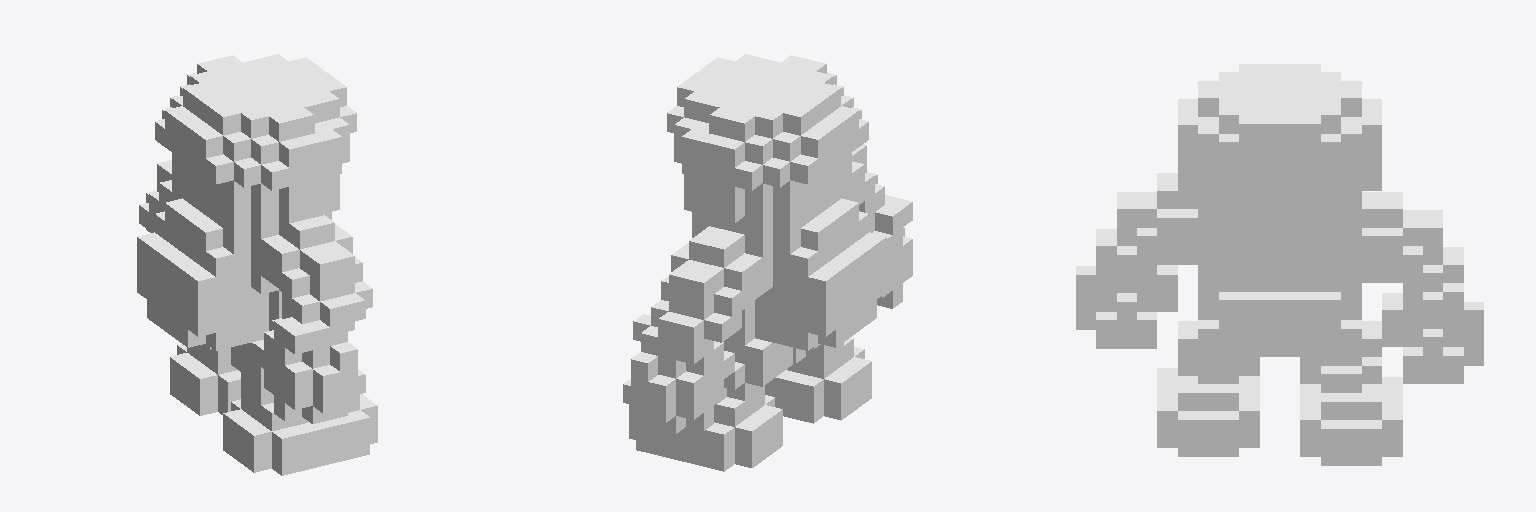
Rendered from PlayerWalkAnim-2.obj.
The picture shows the model from 3 angles: view 1: azimuth 30°, elevation 25°; view 2: azimuth 150°, elevation 25°; view 3: azimuth 270°, elevation 25°; orthographic projection.
Size of the model in its own units: 10 by 18 by 20.